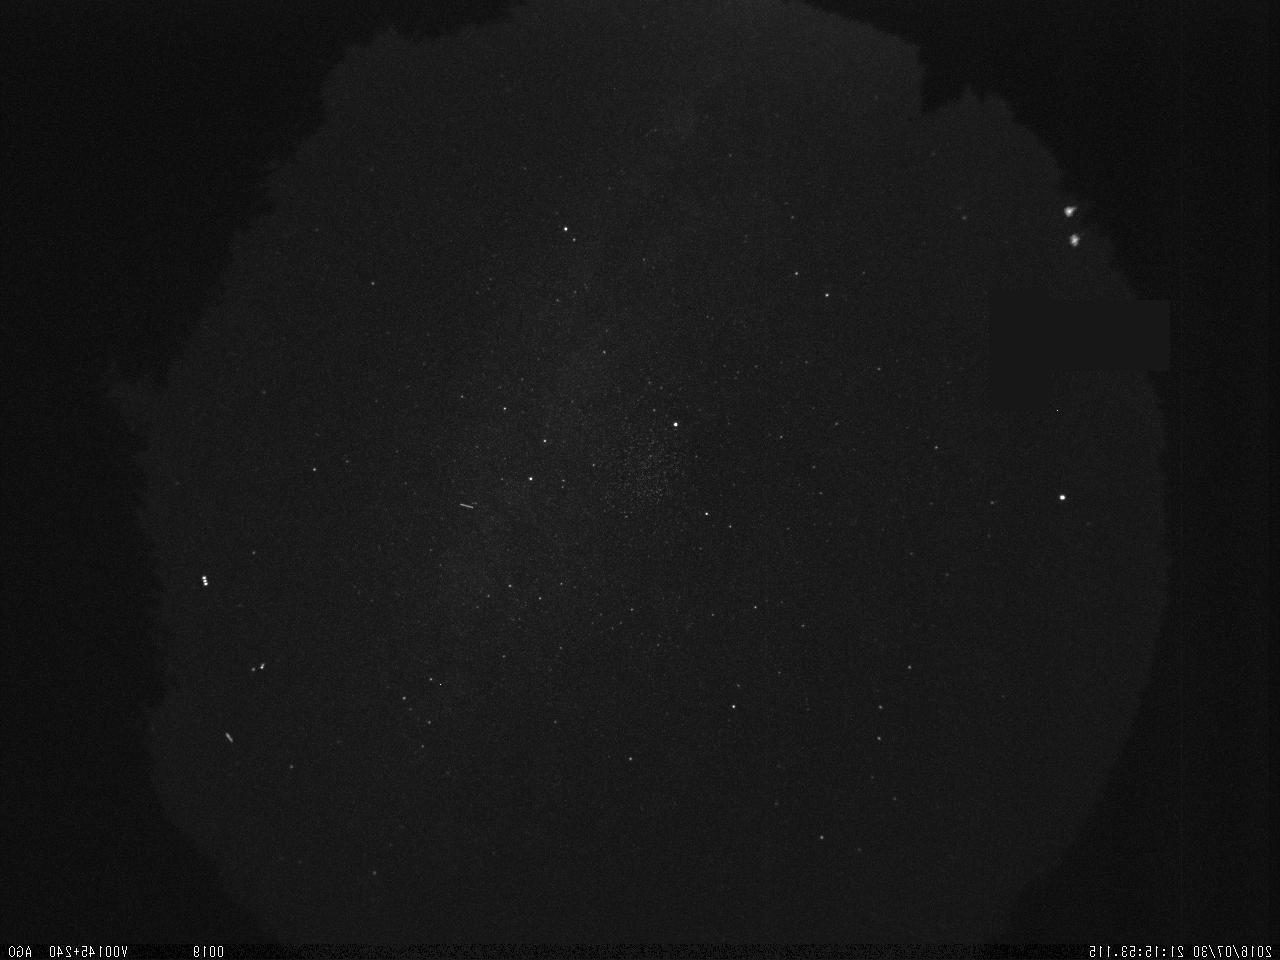satelite: (197, 571, 215, 594), (454, 499, 477, 514)
